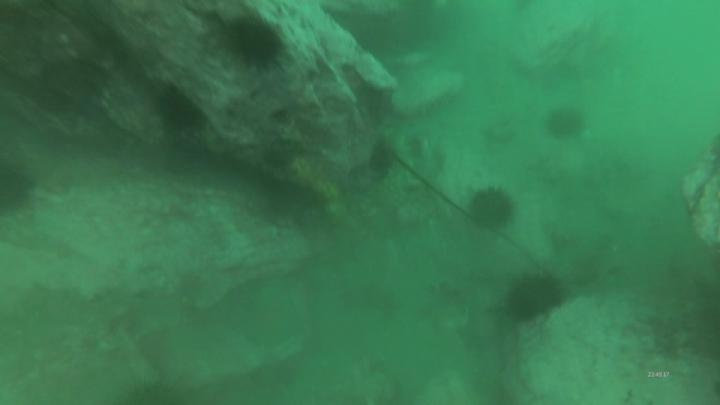echinus: (501, 270, 566, 324), (224, 17, 285, 72), (160, 82, 207, 137), (465, 185, 518, 232), (1, 163, 38, 219), (546, 104, 587, 141), (366, 137, 397, 181)
